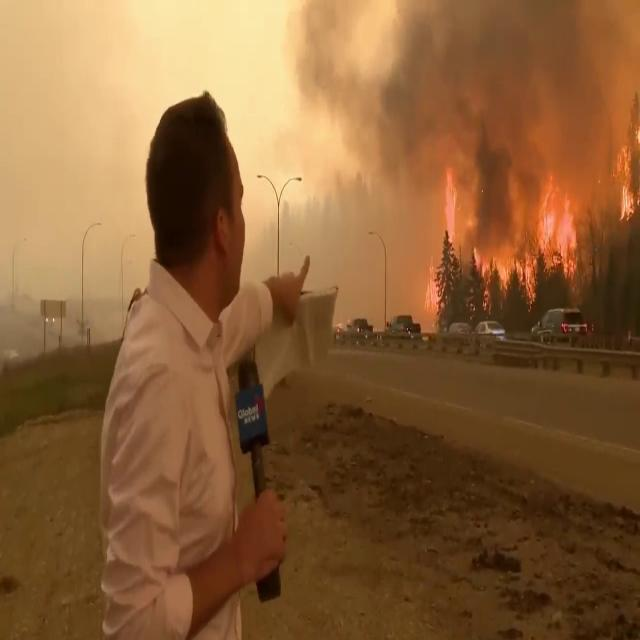Fire: (430, 168, 577, 308), (615, 100, 640, 223)
Smoke: (288, 0, 640, 206)
